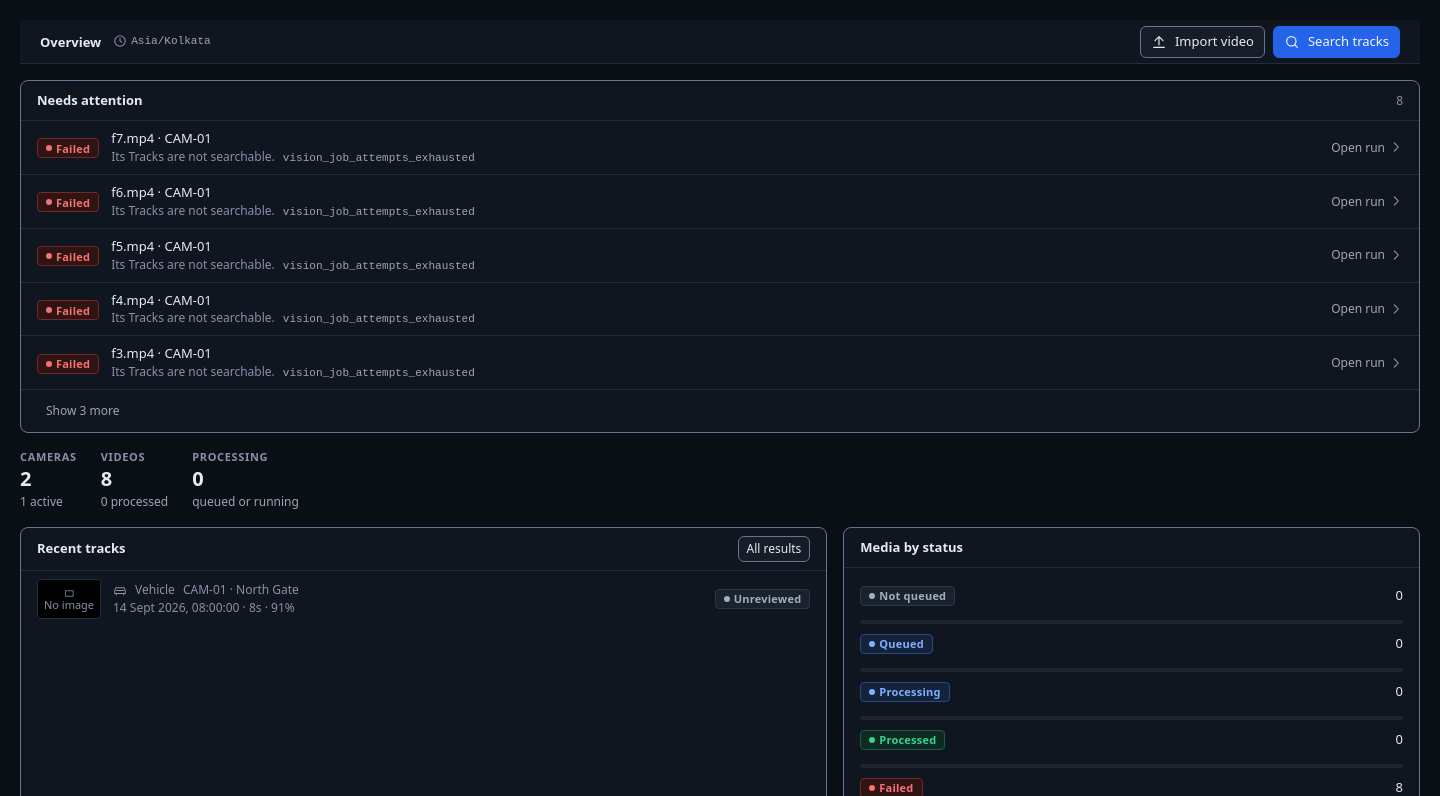
OverviewPage › the attention region (§4.1.1) › bounds a long list with a disclosure, every item reachable
This screenshot has width=1440, height=796.
Click the button "Show 3 more".
click(83, 411)  # box [37, 398, 128, 424]
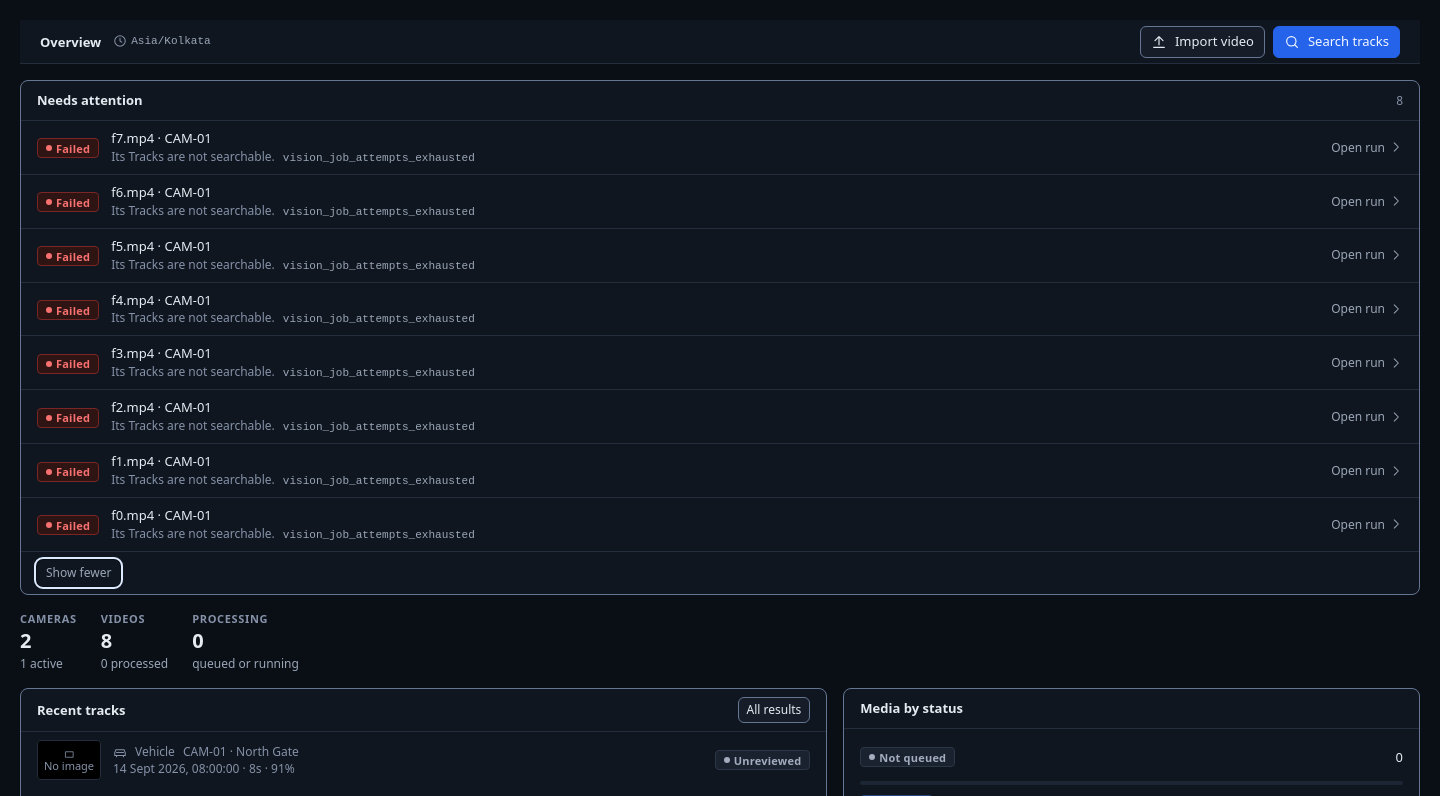
expect the button "Show fewer" is expanded: met, box [37, 560, 120, 586]
